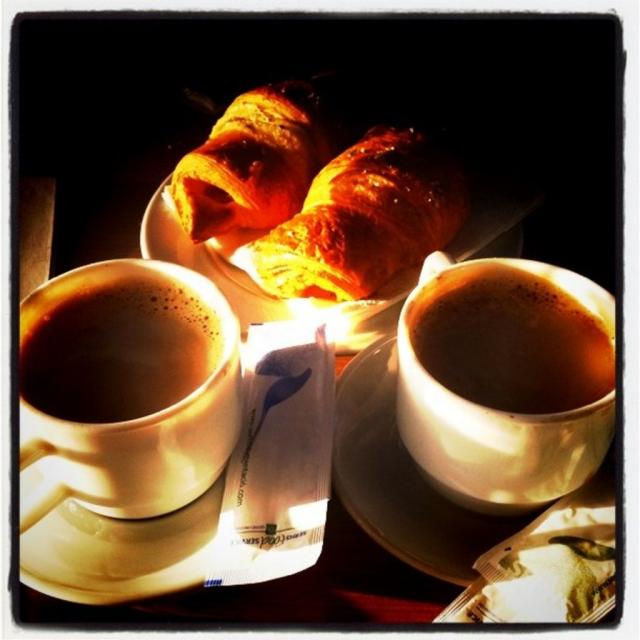Coffee: (25, 251, 259, 560)
Tea: (406, 266, 616, 418), (21, 288, 220, 422)
